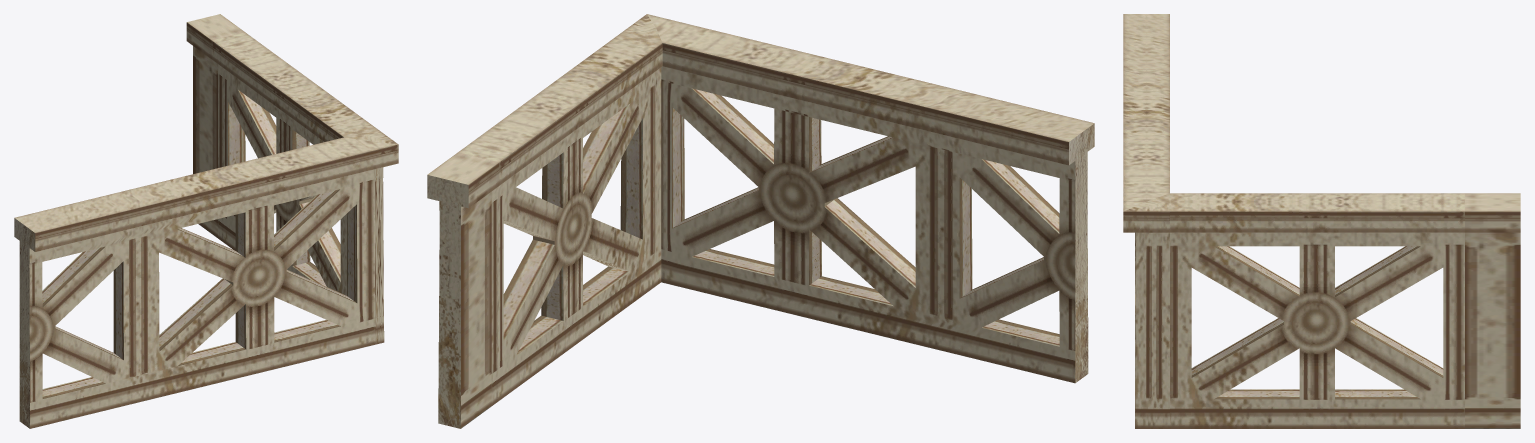
The model's file is svspartarail6.dae.
The picture shows the model from 3 angles, left to right: view 1: azimuth 30°, elevation 25°; view 2: azimuth 150°, elevation 25°; view 3: azimuth 270°, elevation 25°; orthographic projection. The views are drawn at different scales.
Parts seen in each view (by area): view 1: unnamed_object6_copy52-0; view 2: unnamed_object6_copy52-0; view 3: unnamed_object6_copy52-0.
Part boxes in pixels (x1,y1,x2,y2): unnamed_object6_copy52-0: [14, 14, 398, 428]; unnamed_object6_copy52-0: [427, 14, 1094, 428]; unnamed_object6_copy52-0: [1123, 14, 1520, 428].
Size of the model in its own units: 150 by 78.75 by 128.
